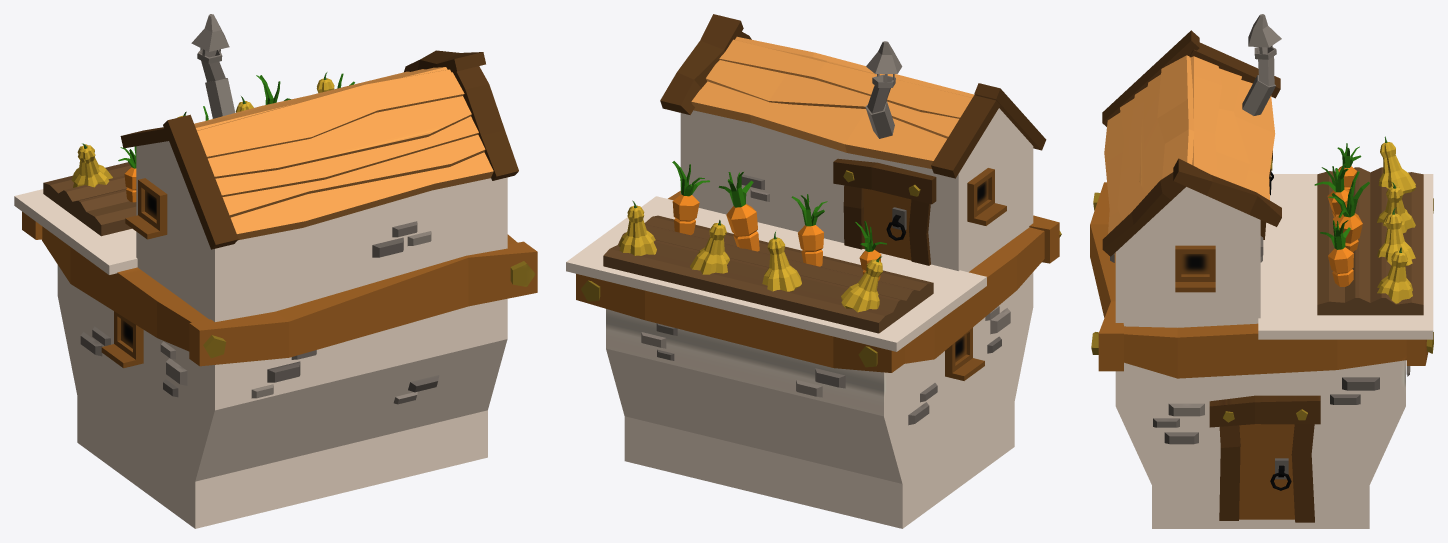
The model's file is Shop1.fbx.
The picture shows the model from 3 angles, left to right: view 1: azimuth 30°, elevation 25°; view 2: azimuth 150°, elevation 25°; view 3: azimuth 270°, elevation 25°; orthographic projection. The views are drawn at different scales.
Parts seen in each view (by area): view 1: house; view 2: house; view 3: house.
Part boxes in pixels (bbox=[...]): house: bbox=[14, 14, 537, 528]; house: bbox=[566, 14, 1061, 528]; house: bbox=[1090, 14, 1433, 528].
Size of the model in its own units: 1684 by 2087 by 1561.
Materials: 1 (1 with a texture image).
